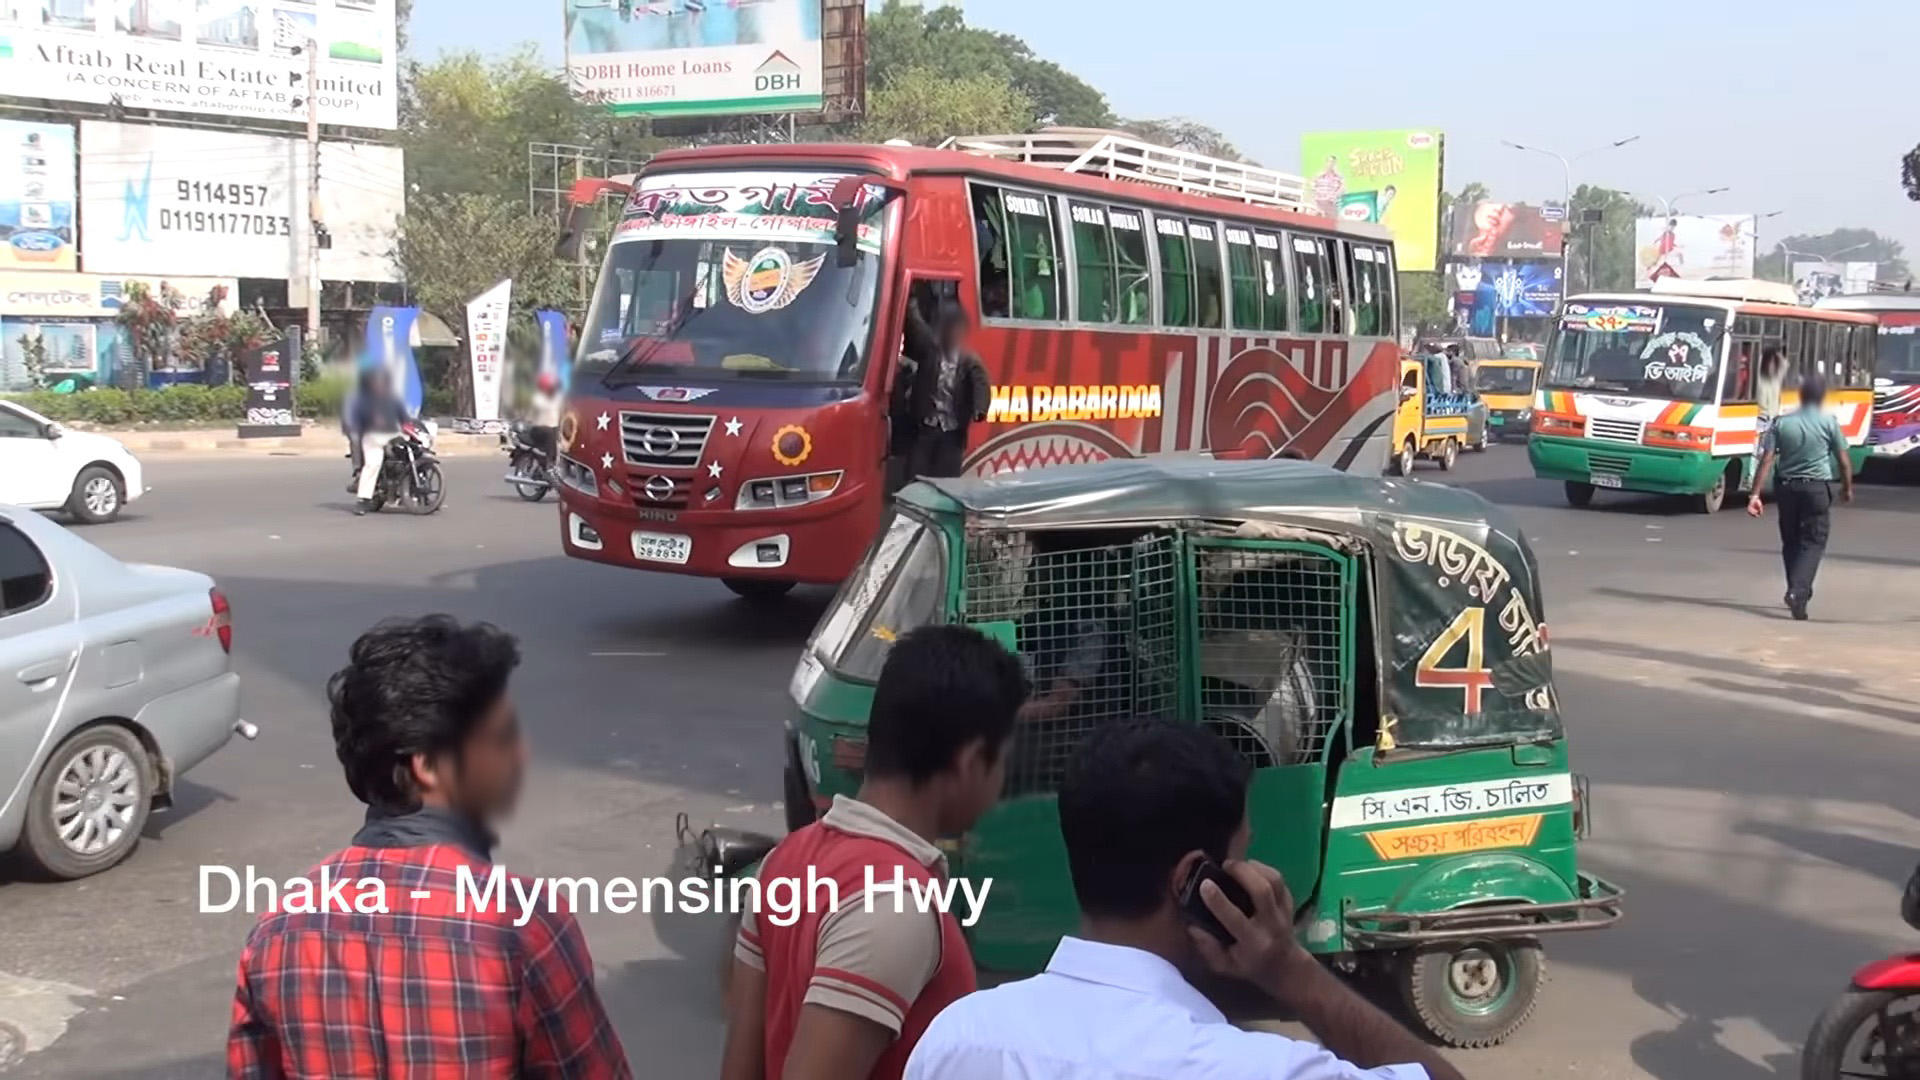bike: (1803, 851, 1919, 1080), (349, 418, 447, 512), (498, 418, 555, 501)
bus: (559, 135, 1396, 601), (1528, 282, 1876, 509), (1813, 291, 1920, 475)
car: (1, 495, 258, 880), (1, 401, 153, 525)
cng: (678, 458, 1625, 1047)
truck: (1395, 363, 1487, 469), (1480, 357, 1538, 443)
